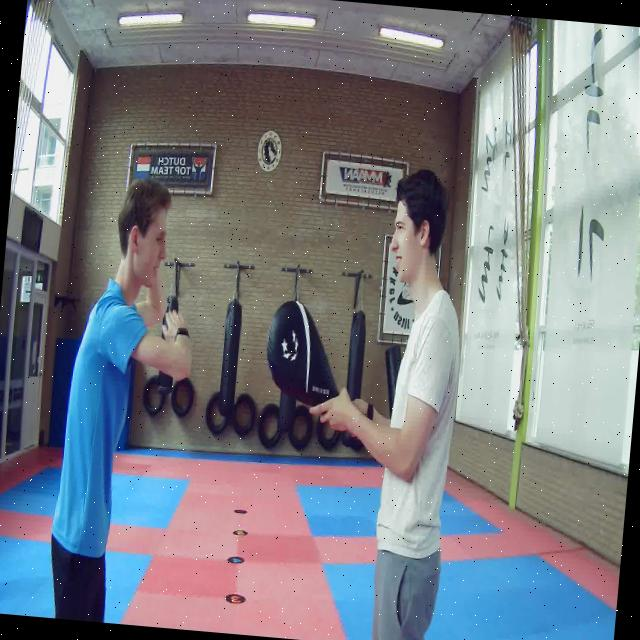paddle: (268, 301, 340, 404)
